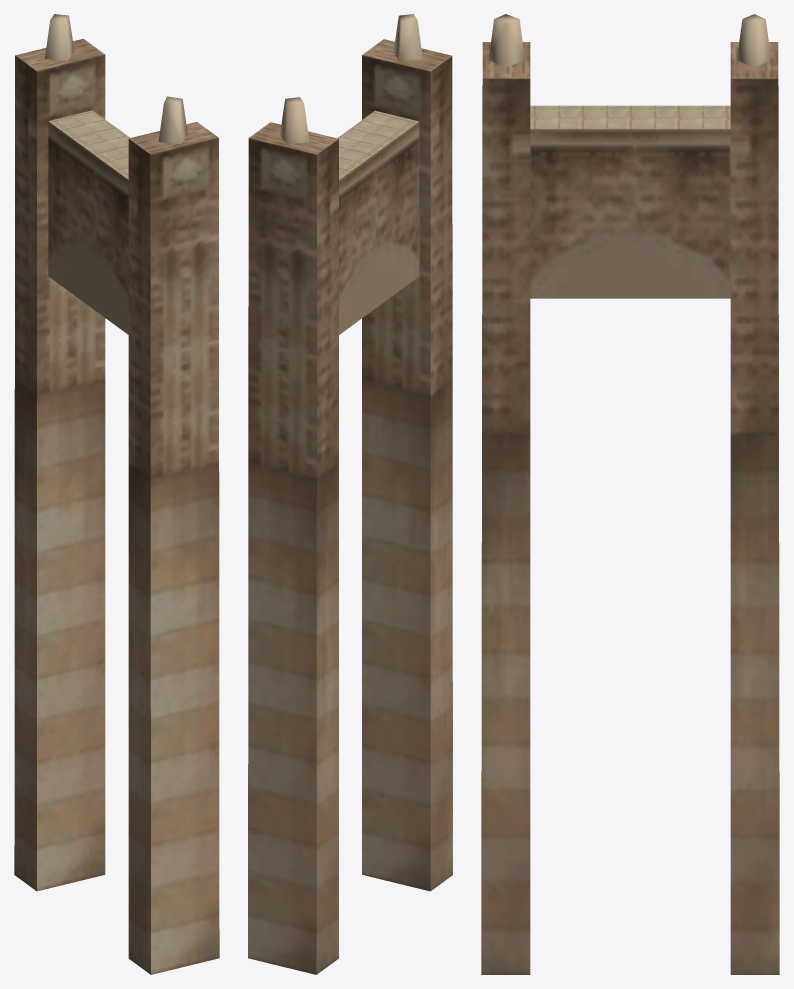
File: thm_nboo_imprv_elevated_walkway_cap_s01_l3.fbx
3 renders of one model, left to right at view 1: azimuth 30°, elevation 25°; view 2: azimuth 150°, elevation 25°; view 3: azimuth 270°, elevation 25°, orthographic. The views are drawn at different scales.
Parts seen in each view (by area): view 1: mesh_node; view 2: mesh_node; view 3: mesh_node.
Boxes of the visible parts, box(x1,y1,x2,y2) form: mesh_node: box(14, 14, 219, 974); mesh_node: box(248, 14, 452, 974); mesh_node: box(481, 14, 779, 974).
Size of the model in its own units: 1.81 by 21.67 by 6.25.
Materials: 1 (1 with a texture image).
